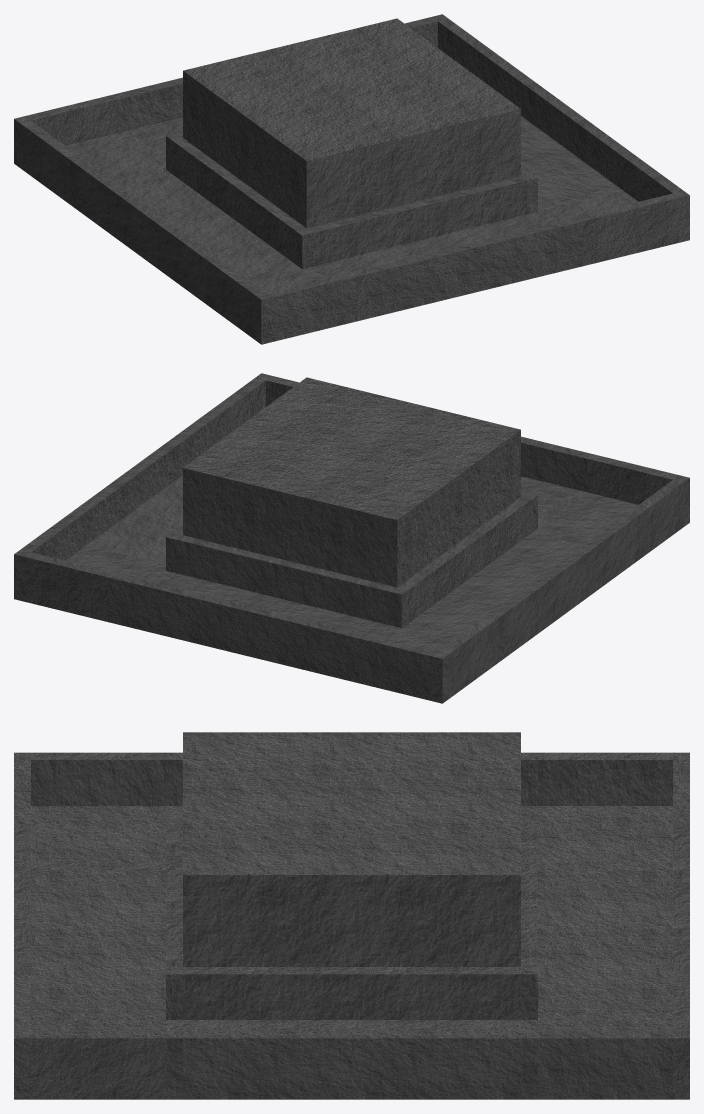
Rendered from fontaine.fbx.
3 renders of one model, top to bottom at view 1: azimuth 30°, elevation 25°; view 2: azimuth 150°, elevation 25°; view 3: azimuth 270°, elevation 25°, orthographic. The views are drawn at different scales.
Parts seen in each view (by area): view 1: Cube_001; view 2: Cube_001; view 3: Cube_001.
Boxes of the visible parts, <box> form: Cube_001: <box>14,14,689,344</box>; Cube_001: <box>14,373,689,703</box>; Cube_001: <box>14,732,689,1099</box>.
Size of the model in its own units: 40 by 10 by 40.
Materials: 1 (1 with a texture image).
